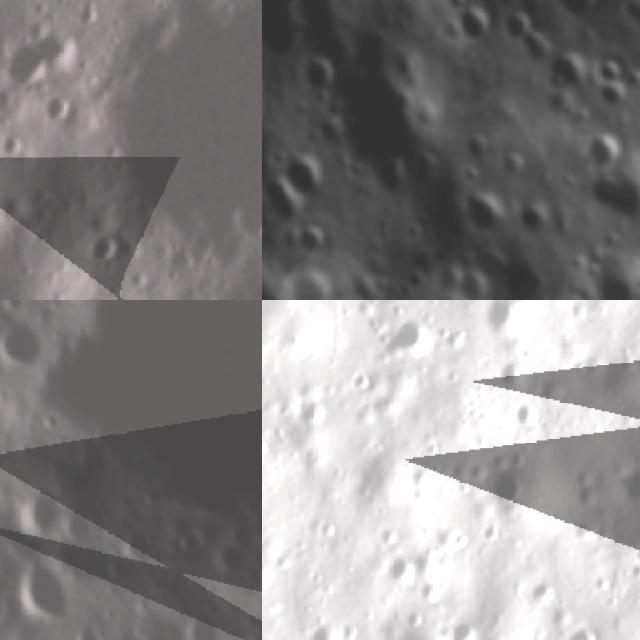crater: (44, 0, 262, 297), (580, 158, 640, 235), (0, 36, 55, 105), (271, 146, 333, 204), (78, 220, 136, 280), (10, 488, 63, 547), (0, 174, 47, 240), (14, 569, 64, 626), (30, 85, 82, 139), (298, 50, 349, 103), (380, 310, 430, 362), (224, 187, 262, 250), (590, 254, 640, 300), (456, 192, 504, 239), (281, 263, 341, 300), (581, 127, 632, 169), (290, 211, 332, 262), (0, 318, 43, 365), (458, 2, 498, 49), (0, 120, 35, 173), (485, 300, 528, 340), (181, 596, 219, 640), (517, 26, 557, 67), (488, 462, 524, 504), (552, 0, 609, 23), (512, 392, 549, 427), (231, 259, 262, 300), (518, 199, 553, 235), (381, 546, 412, 586), (556, 617, 609, 640), (503, 9, 536, 42), (594, 56, 626, 90), (599, 76, 628, 112), (621, 466, 640, 506), (451, 620, 482, 640), (622, 65, 640, 93)
